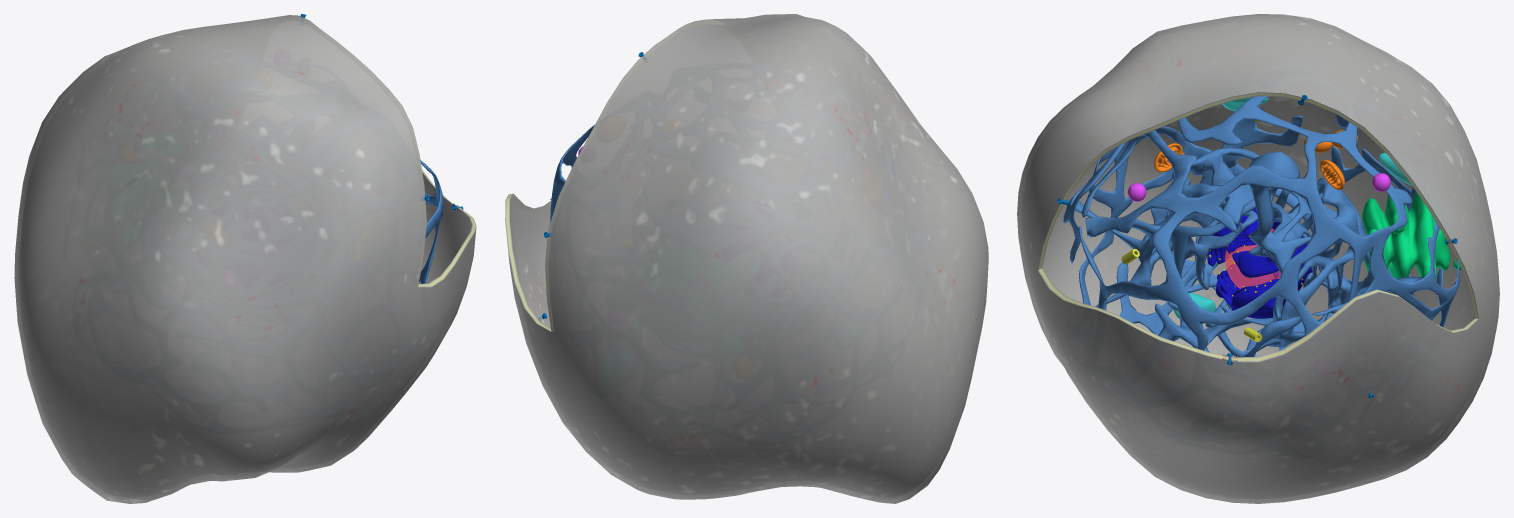
The model's file is Animal Cell.fbx.
3 views of the same model, side by side, from view 1: azimuth 30°, elevation 25°; view 2: azimuth 150°, elevation 25°; view 3: azimuth 270°, elevation 25° (orthographic). The views are drawn at different scales.
Parts seen in each view (by area): view 1: cellmembrane, SmoothER; view 2: cellmembrane, SmoothER; view 3: cellmembrane, SmoothER, Golgi, RoughER, NuclearEnvelope.
Part boxes in pixels (box(x1,y1,x2,y2)): cellmembrane: box(14, 15, 476, 503); SmoothER: box(126, 160, 443, 283); cellmembrane: box(505, 14, 988, 503); SmoothER: box(550, 124, 893, 221); cellmembrane: box(1017, 14, 1499, 503); SmoothER: box(1063, 96, 1459, 357); Golgi: box(1362, 192, 1461, 281); RoughER: box(1207, 208, 1316, 318); NuclearEnvelope: box(1225, 228, 1280, 288).
Size of the model in its own units: 103 by 103 by 102.
